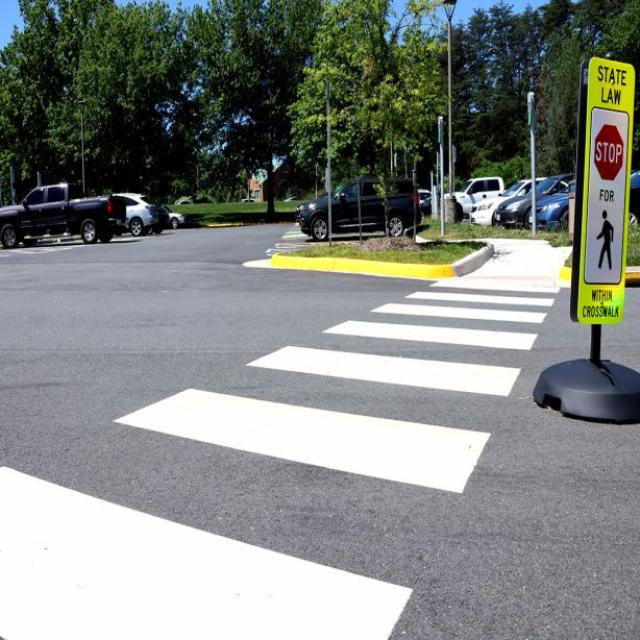pedestrian lane: (0, 280, 561, 640)
